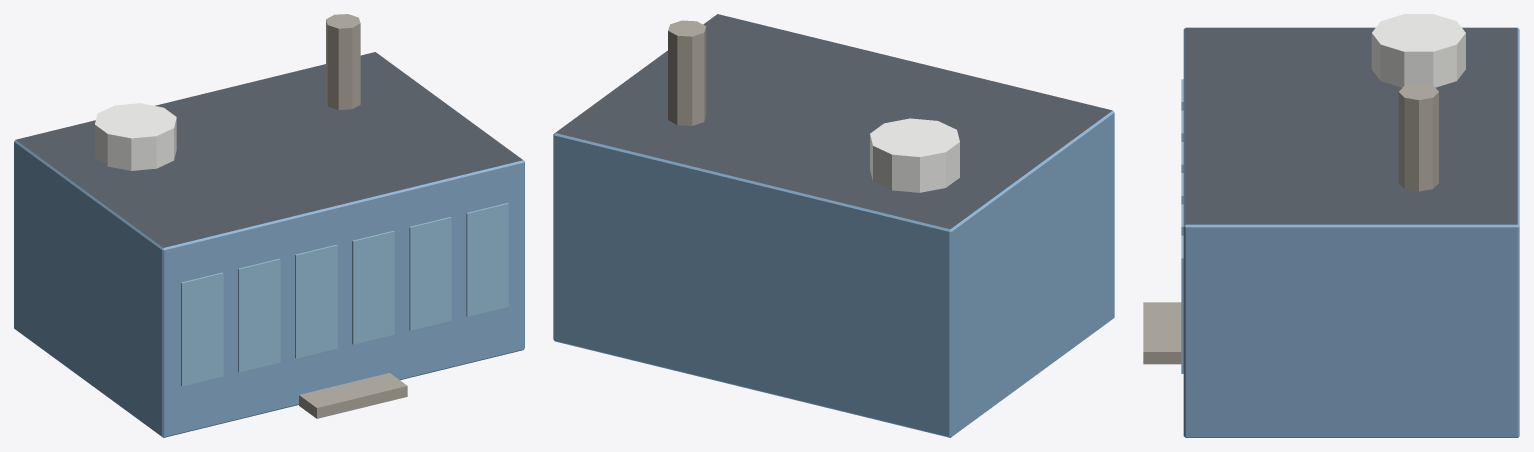
The model's file is lab.fbx.
3 renders of one model, left to right at view 1: azimuth 30°, elevation 25°; view 2: azimuth 150°, elevation 25°; view 3: azimuth 270°, elevation 25°, orthographic. The views are drawn at different scales.
Parts seen in each view (by area): view 1: lab; view 2: lab; view 3: lab.
Part boxes in pixels (x1=…): lab: x1=14, y1=14, x2=524, y2=437; lab: x1=553, y1=14, x2=1114, y2=437; lab: x1=1143, y1=14, x2=1519, y2=437.
Size of the model in its own units: 14 by 10 by 11.2.
